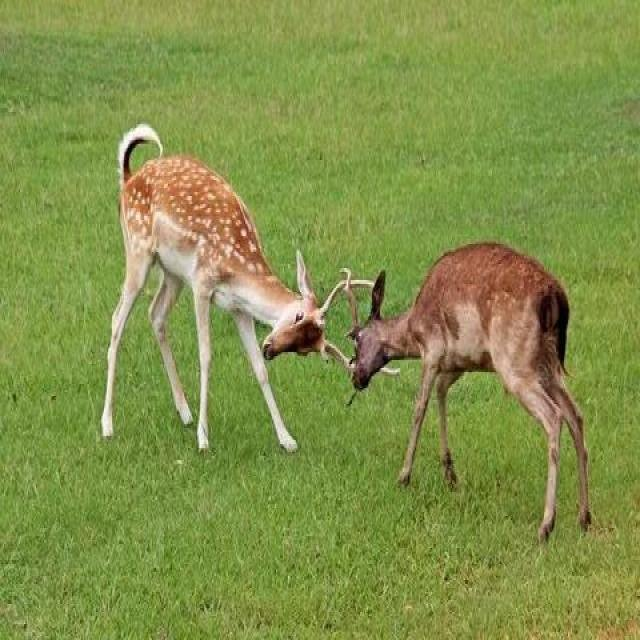deer: (115, 139, 405, 522), (336, 187, 566, 497)
